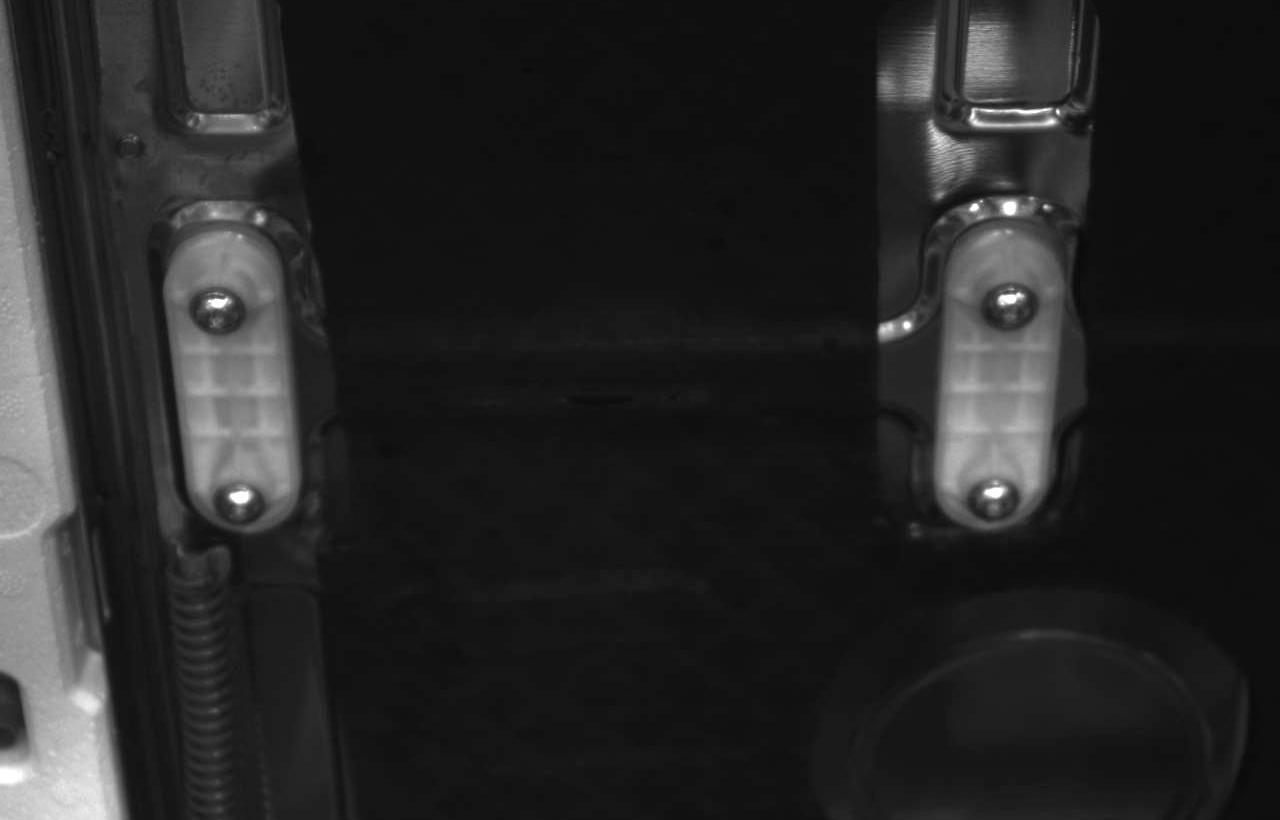vida-ok: (183, 275, 254, 342), (979, 271, 1046, 338), (960, 461, 1026, 529), (203, 471, 269, 529)
